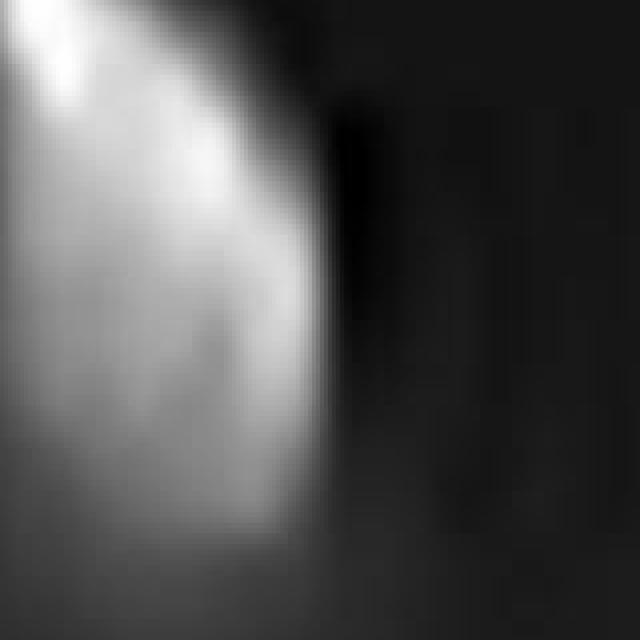person: (1, 1, 337, 566)
